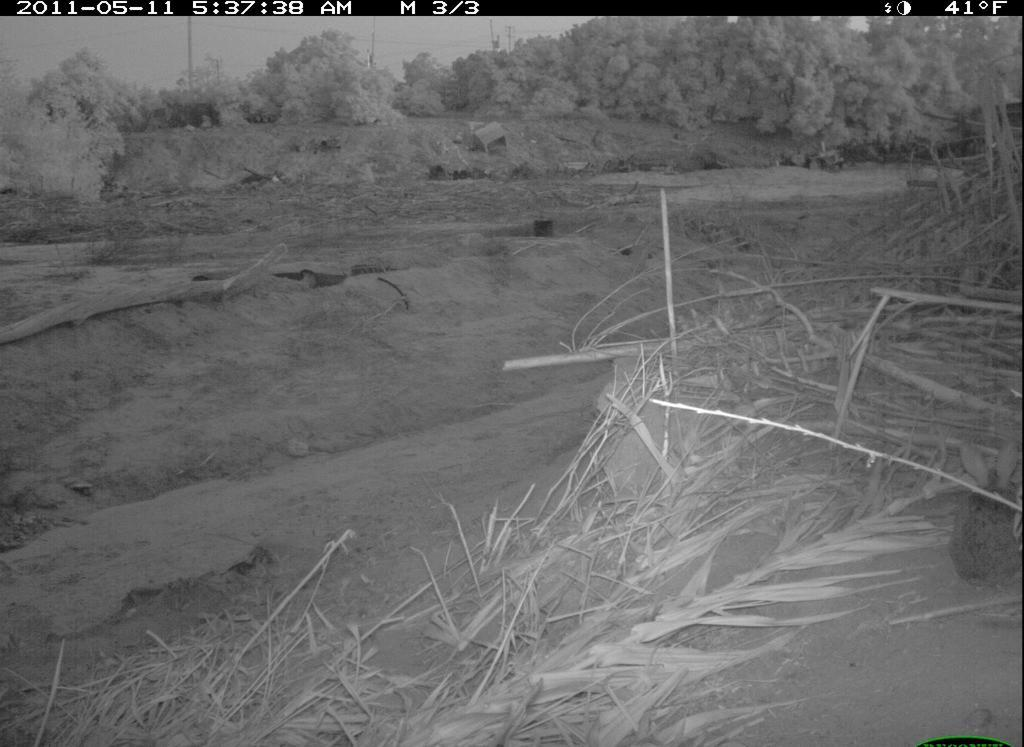rabbit: (941, 434, 1022, 591)
